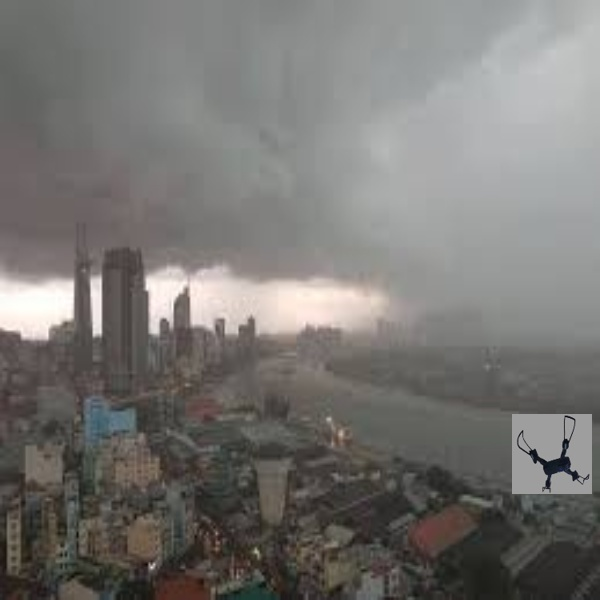drone: (510, 414, 591, 494)
